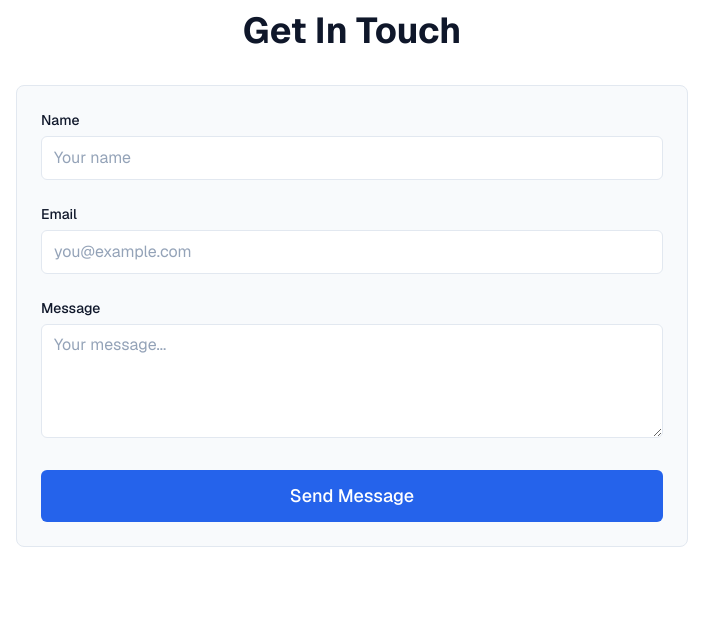
Test case: Contact › shows client-side validation errors for empty fields
What coordinates should you click on to do the following:
click the button "Send Message"
I would click on:
 (352, 496)
Its box is 41,470 -> 663,522.
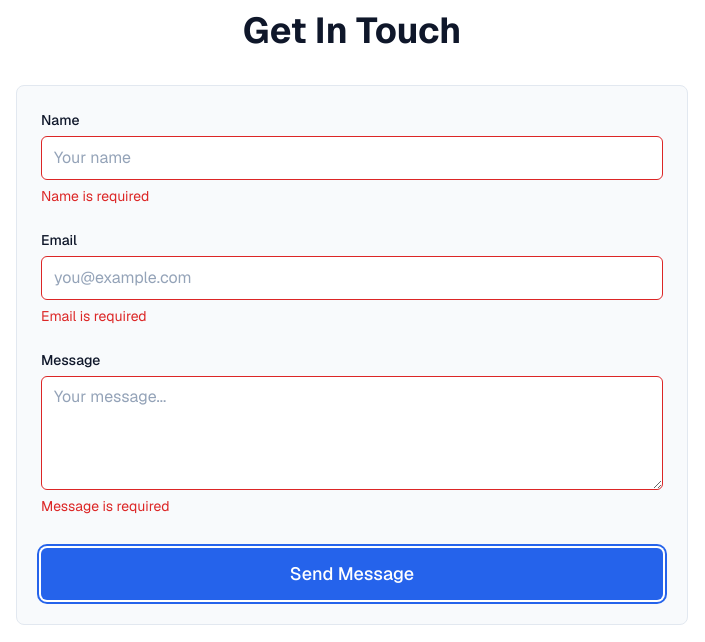
Check: the text "Name is required" is shown, box 41,187 -> 149,205
Check: the text "Email is required" is shown, box 41,307 -> 147,325
Check: the text "Message is required" is shown, box 41,497 -> 170,515
